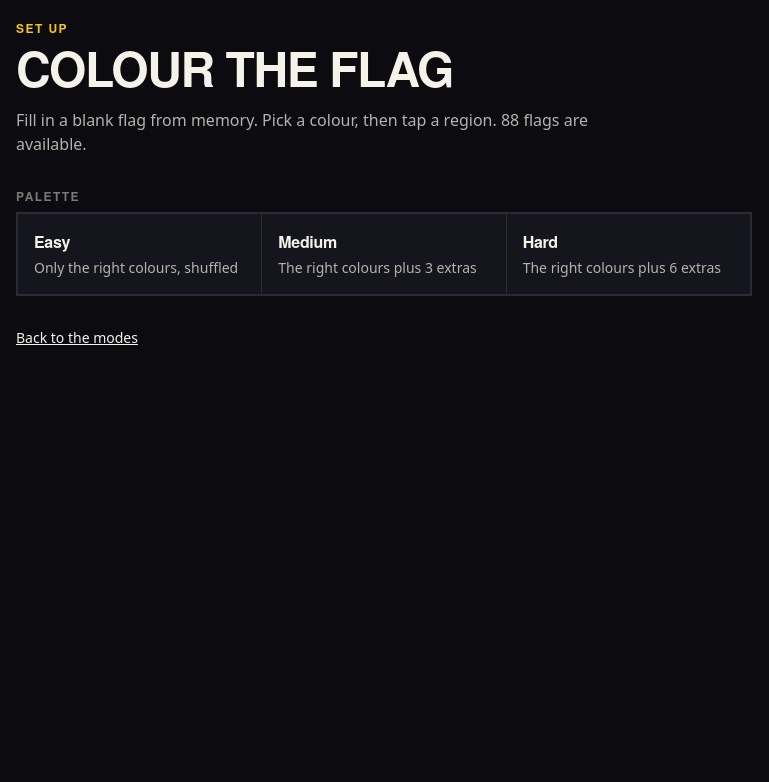
Scenario: painting (T6.3) › shows a blank flag with one clickable region per template region
Step 1. Click the button "Easy Only the right colours, shuffled" → (140, 254), box [18,214,261,294]
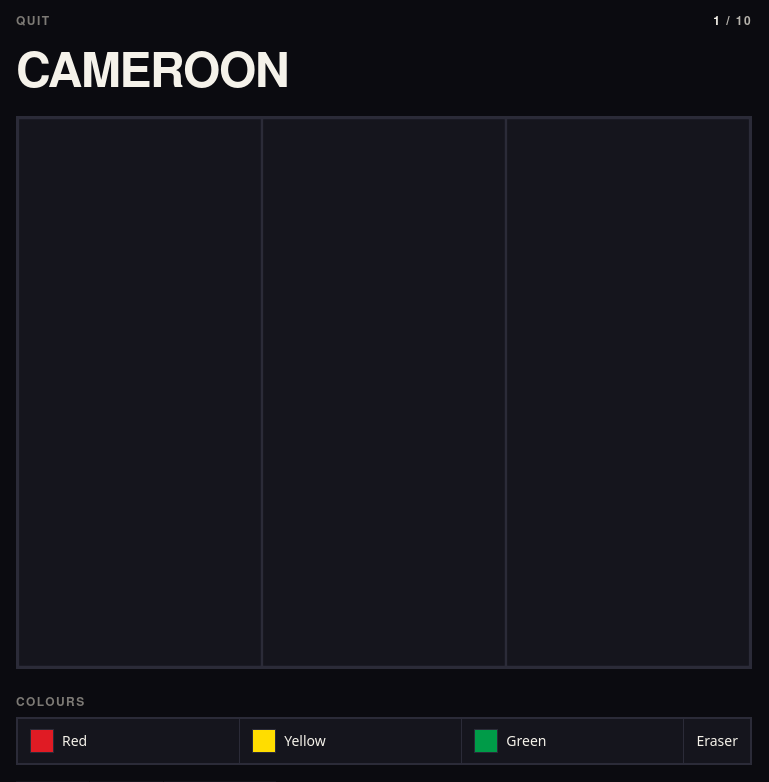
Check: the picture named "blank flag of" is shown
